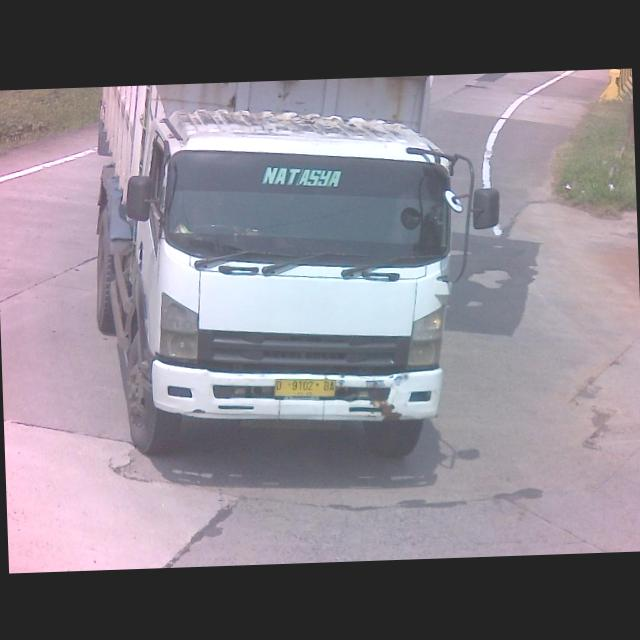plate: (270, 372, 336, 399)
